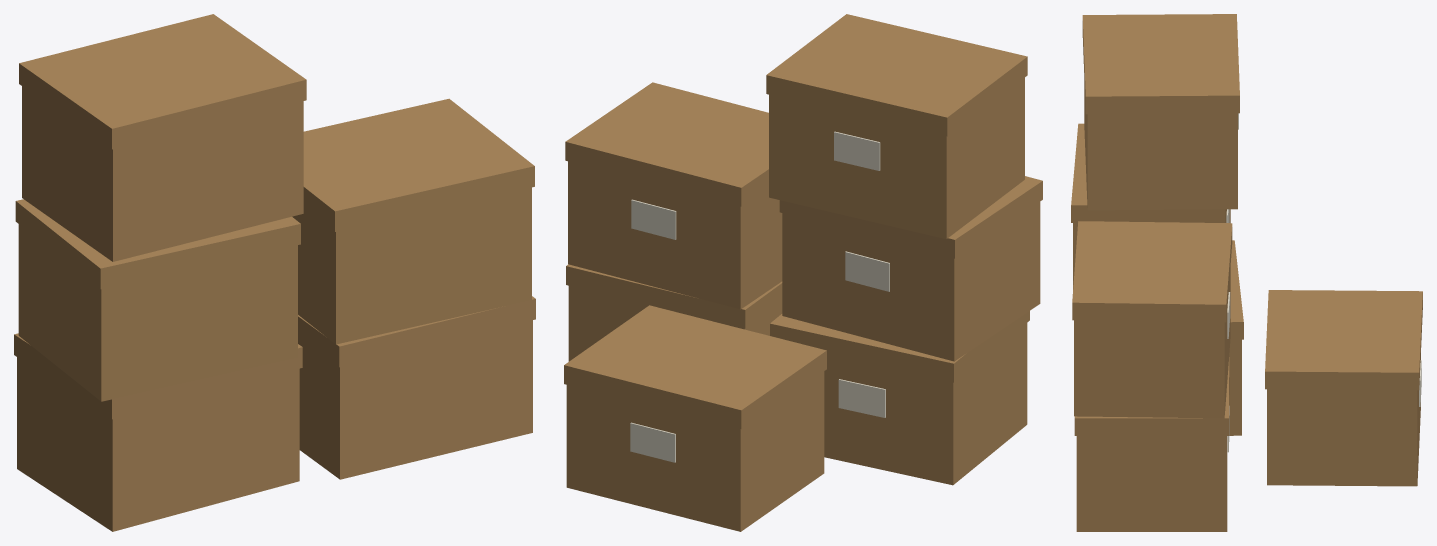
File: SM_80s_BoxStack.glb
3 views of the same model, side by side, from view 1: azimuth 30°, elevation 25°; view 2: azimuth 150°, elevation 25°; view 3: azimuth 270°, elevation 25° (orthographic). The views are drawn at different scales.
Parts seen in each view (by area): view 1: SM_80s_BoxStack; view 2: SM_80s_BoxStack; view 3: SM_80s_BoxStack.
Part boxes in pixels (bbox=[...]): SM_80s_BoxStack: bbox=[14, 14, 535, 531]; SM_80s_BoxStack: bbox=[564, 14, 1042, 531]; SM_80s_BoxStack: bbox=[1071, 14, 1422, 531].
Bounding box in the file's own units: 1.16 × 1.03 × 0.9559.
